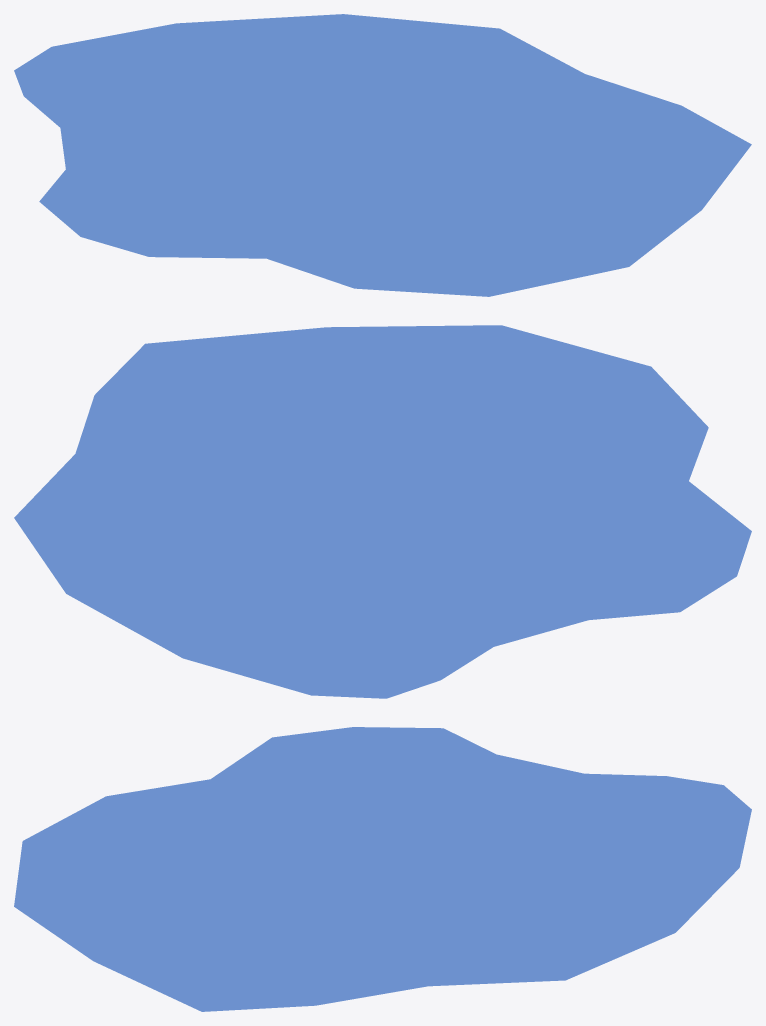
The model's file is ice.fbx.
The picture shows the model from 3 angles, top to bottom: view 1: azimuth 30°, elevation 25°; view 2: azimuth 150°, elevation 25°; view 3: azimuth 270°, elevation 25°; orthographic projection. The views are drawn at different scales.
Visible parts, largest first — view 1: Circle.003; view 2: Circle.003; view 3: Circle.003.
Boxes of the visible parts, x1=… form: Circle.003: x1=14, y1=14, x2=751, y2=296; Circle.003: x1=14, y1=325, x2=751, y2=698; Circle.003: x1=14, y1=727, x2=751, y2=1011.
Bounding box in the file's own units: 234 × 1.18 × 253.
